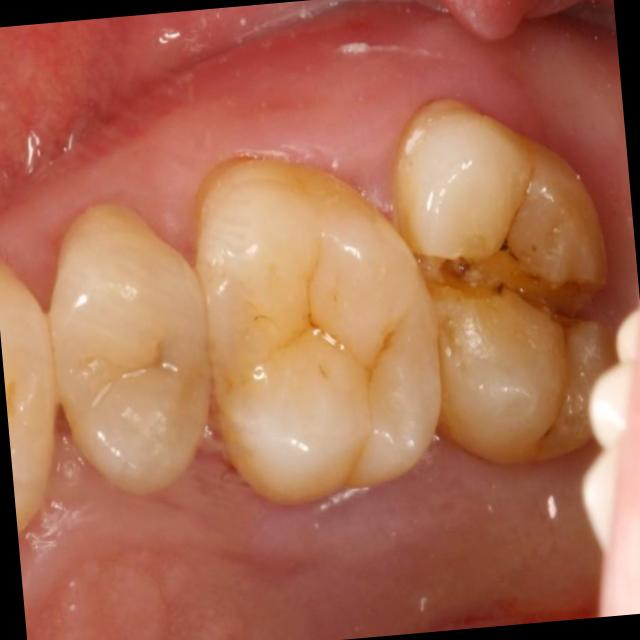Caries: (499, 240, 508, 251), (510, 252, 517, 259), (497, 284, 502, 293)
Cavity: (415, 232, 608, 335)
Tooth: (193, 155, 441, 508), (392, 97, 614, 464), (47, 203, 212, 495)
